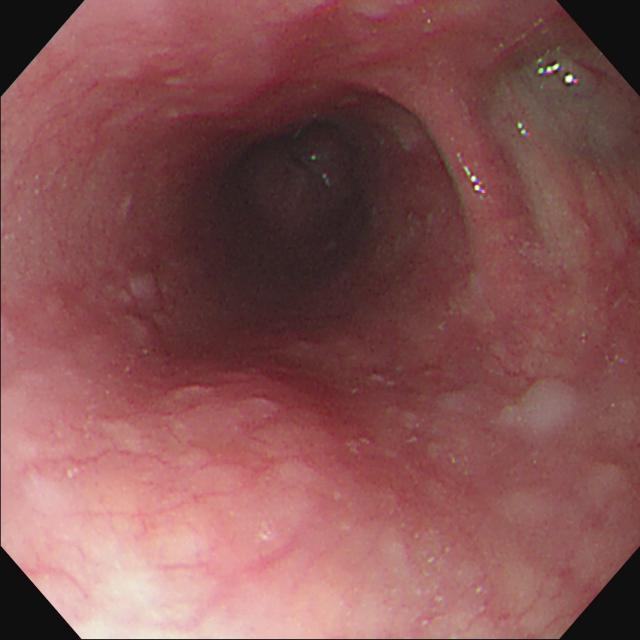I: (238, 118, 364, 266)
U: (458, 151, 488, 202), (539, 62, 579, 85)
